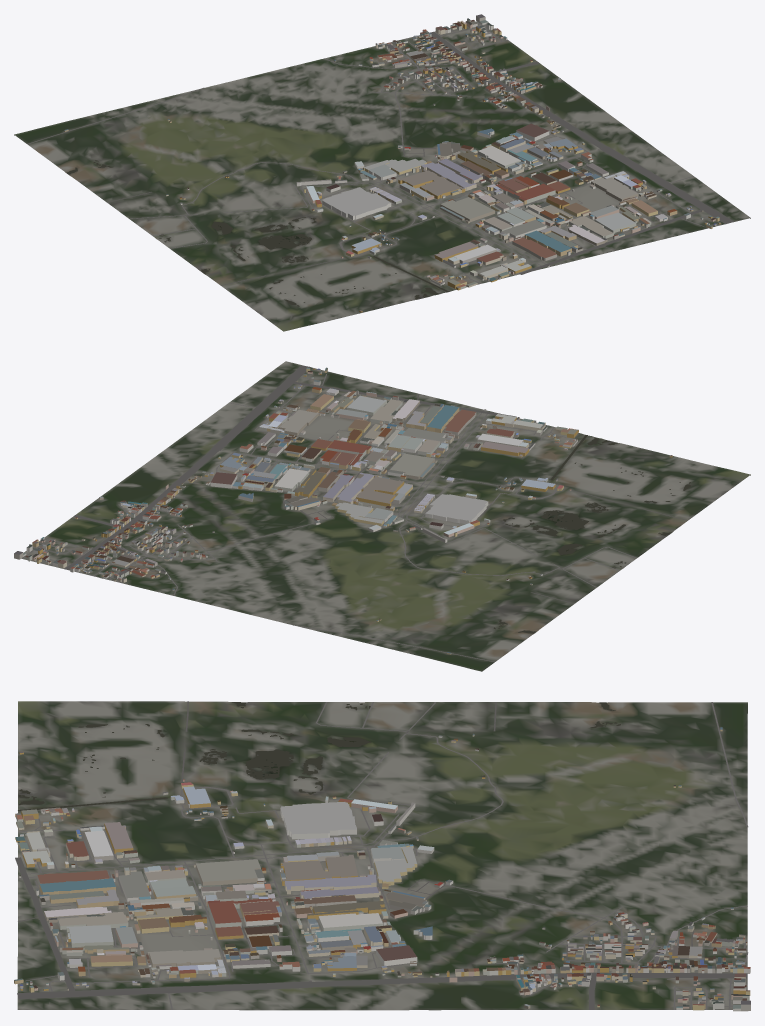
The picture shows the model from 3 angles, top to bottom: view 1: azimuth 30°, elevation 25°; view 2: azimuth 150°, elevation 25°; view 3: azimuth 270°, elevation 25°; orthographic projection. The views are drawn at different scales.
Visible parts, largest first — view 1: ground, buildings, roads, water; view 2: ground, buildings, roads, water; view 3: ground, buildings, roads, water.
Part boxes in pixels (left/top/right/bottom): ground: left=14, top=21, right=750, bottom=331; buildings: left=64, top=14, right=720, bottom=312; roads: left=27, top=21, right=733, bottom=312; water: left=67, top=160, right=448, bottom=306; ground: left=21, top=361, right=750, bottom=671; buildings: left=14, top=367, right=672, bottom=654; roads: left=22, top=365, right=688, bottom=662; water: left=493, top=435, right=691, bottom=633; ground: left=17, top=701, right=747, bottom=1010; buildings: left=14, top=727, right=750, bottom=1011; roads: left=15, top=701, right=748, bottom=1009; water: left=18, top=702, right=620, bottom=811.
Size of the model in its own units: 1408 by 18.85 by 1416.
